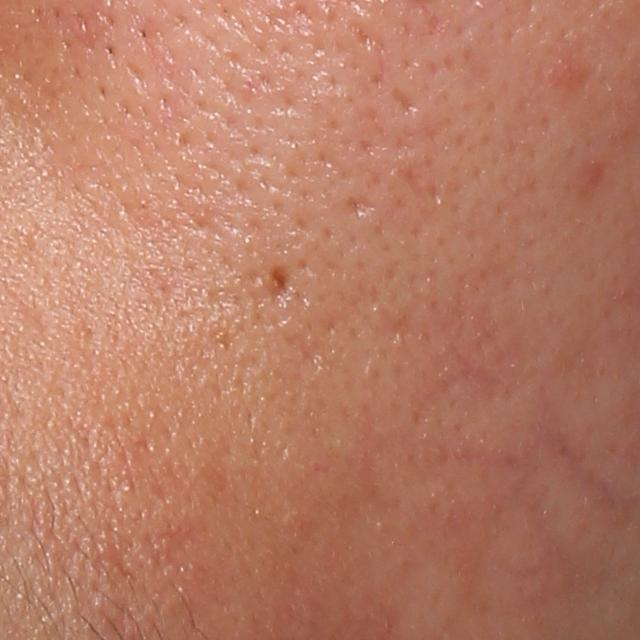atrophic_scar: (393, 155, 446, 208), (385, 82, 419, 113), (347, 197, 379, 219)
nevus: (266, 261, 292, 304)
